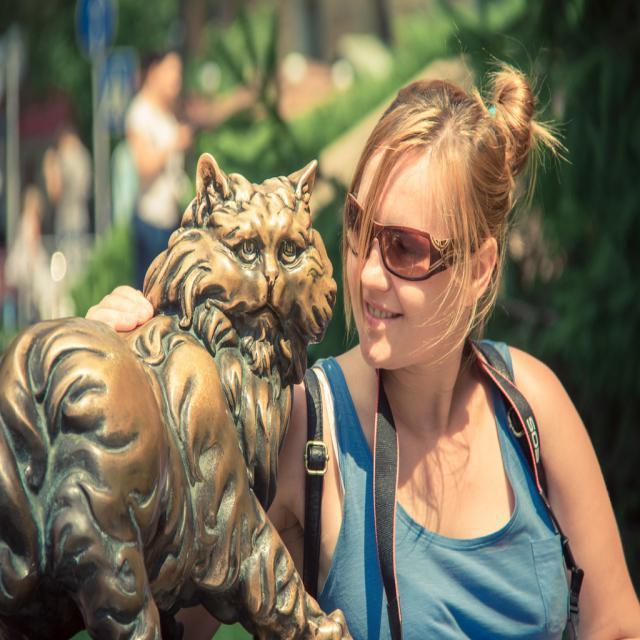closed-mouth: (362, 297, 404, 326)
